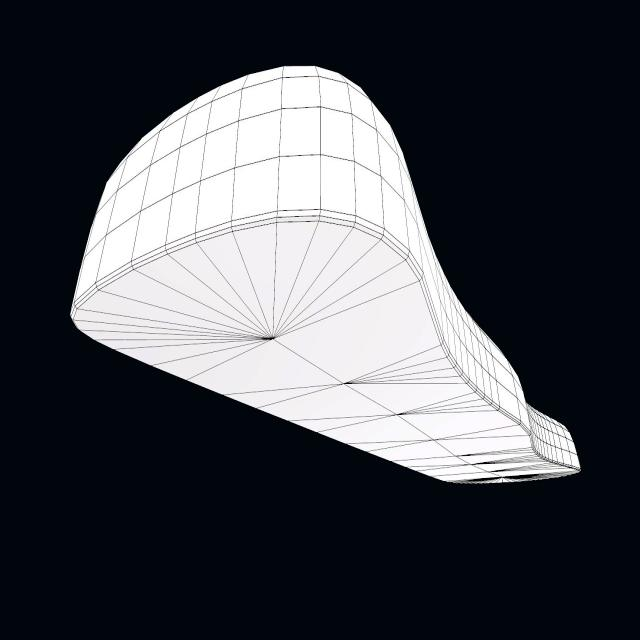cleaver: (72, 64, 585, 484)
